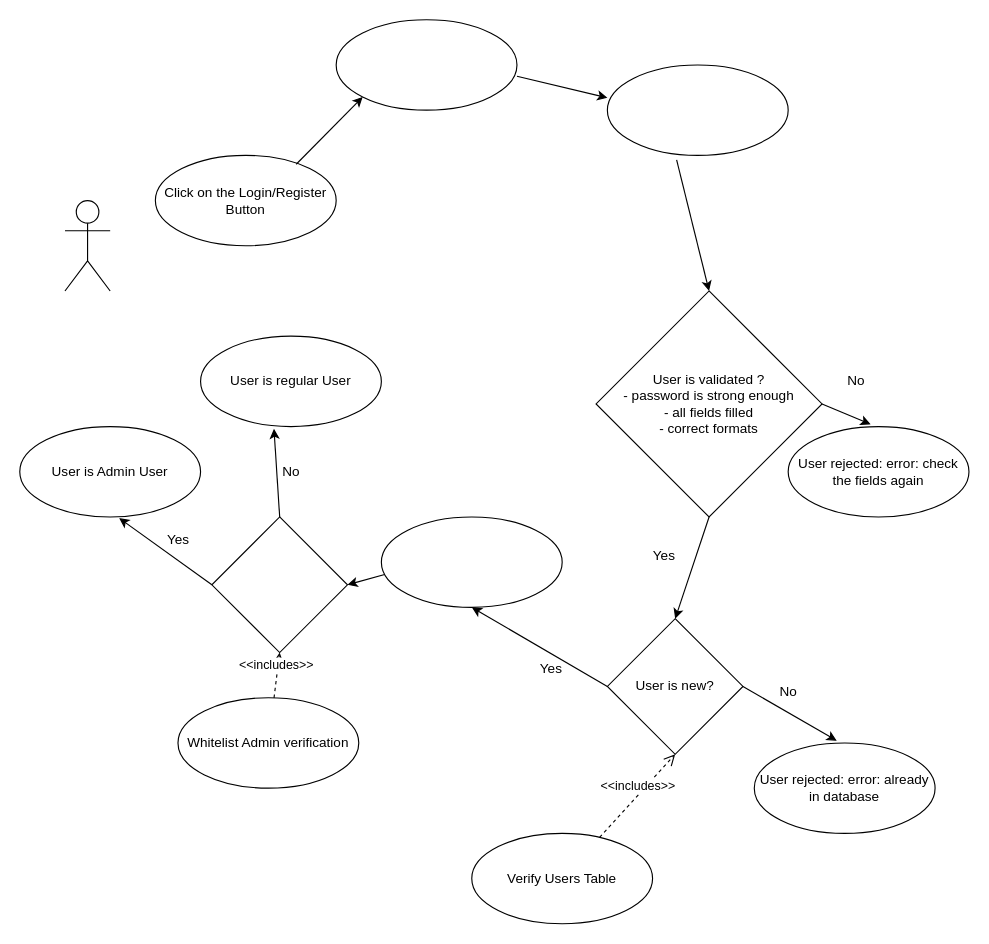
Some shapes in this 989 by 944 pixel diagram are drawn without their labels. Each missing label, with the centre of its shape:
Click on Register Button: the point at 426,64
Fills the fields: - Family Name - First Name - email: the point at 697,109
User: the point at 87,245
User is admin ?: the point at 279,584
User verified: the point at 471,561
